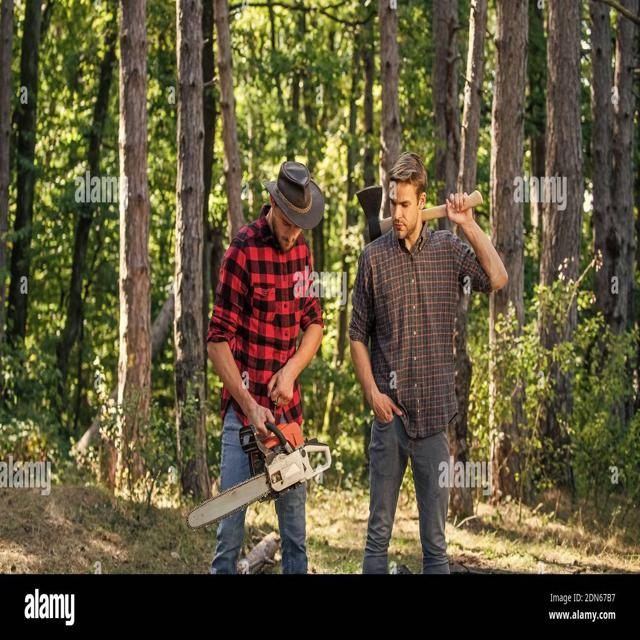poacher: (147, 146, 365, 572), (316, 131, 523, 573)
